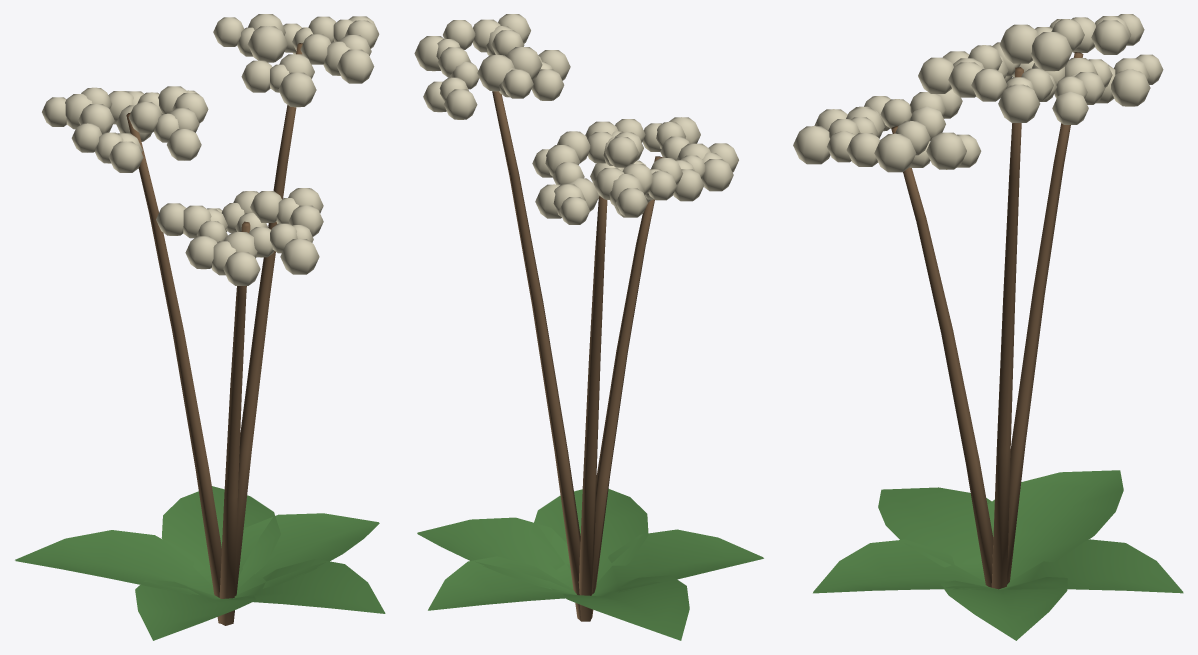
Rendered from ing_meadowsweet.glb.
3 renders of one model, left to right at view 1: azimuth 30°, elevation 25°; view 2: azimuth 150°, elevation 25°; view 3: azimuth 270°, elevation 25°, orthographic. The views are drawn at different scales.
Visible parts, largest first — view 1: ing_meadowsweet; view 2: ing_meadowsweet; view 3: ing_meadowsweet.
Boxes of the visible parts, x1=… form: ing_meadowsweet: x1=15, y1=14, x2=385, y2=640; ing_meadowsweet: x1=414, y1=14, x2=763, y2=640; ing_meadowsweet: x1=793, y1=14, x2=1183, y2=640.
Size of what is drawn, in the model's own units: 0.29 by 0.5035 by 0.2895.
